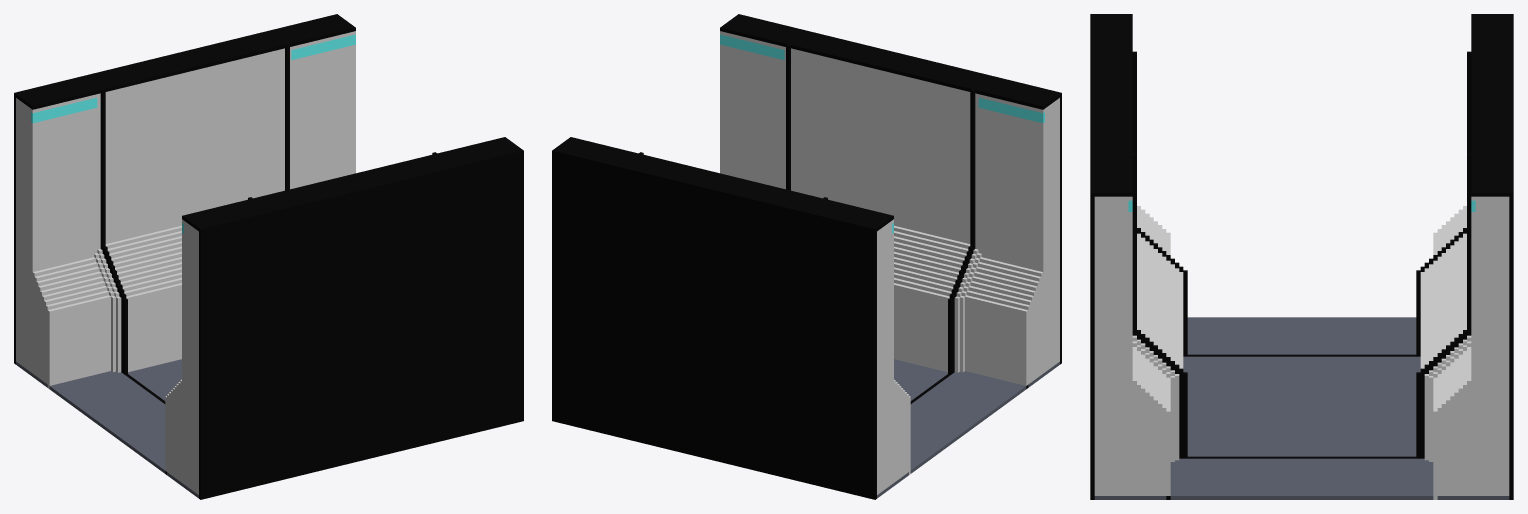
Rendered from TestBlocks-1.obj.
3 renders of one model, left to right at view 1: azimuth 30°, elevation 25°; view 2: azimuth 150°, elevation 25°; view 3: azimuth 270°, elevation 25°, orthographic. The views are drawn at different scales.
Size of the model in its own units: 10 by 8 by 10.
1 material, 1 textured.
